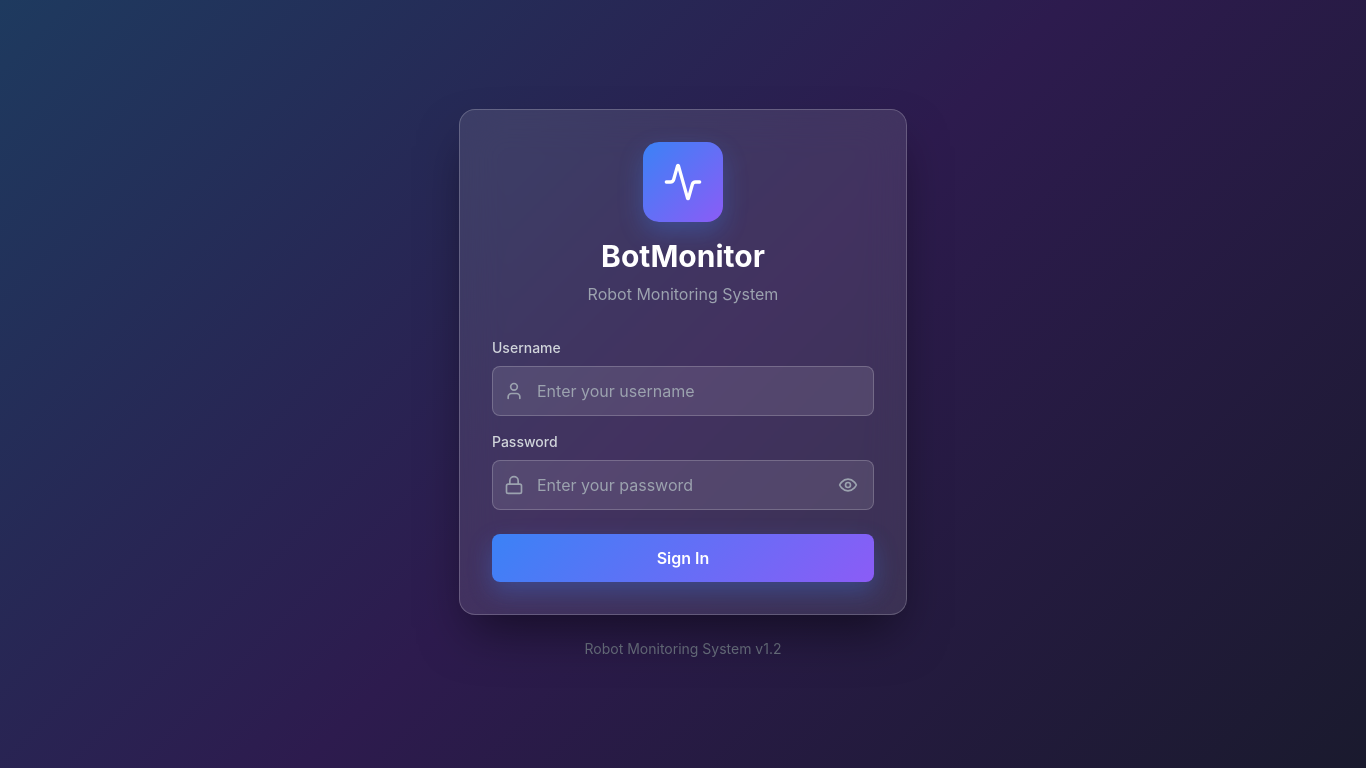
Test: Login Page › shows error when submitting empty form
The image size is (1366, 768).
Click the button "Sign In": (683, 558) [492, 534, 874, 582]
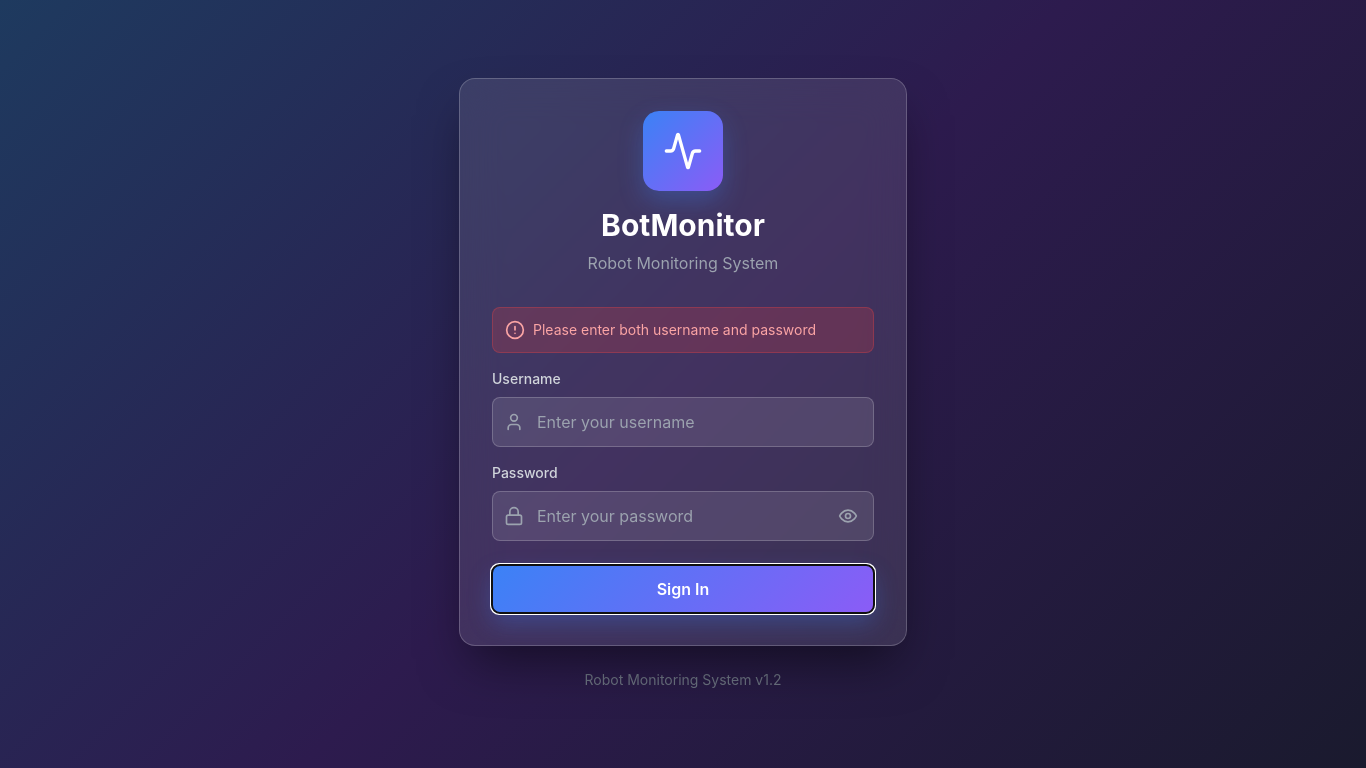
Now the text "Please enter both username and password" is shown, box [533, 320, 816, 340]
